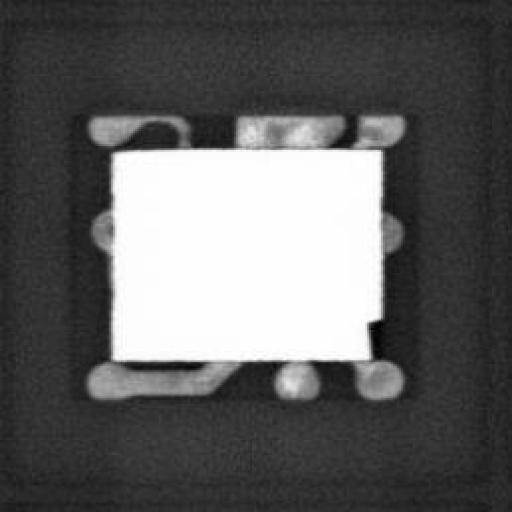DIE_BROKEN: (363, 313, 383, 360)
